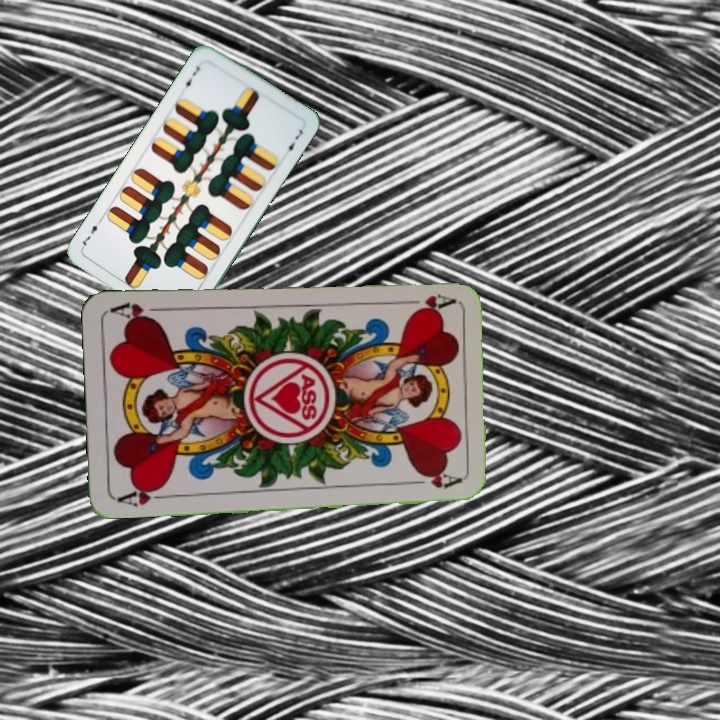E7: (179, 62, 203, 92)
HA: (113, 481, 172, 509), (396, 290, 455, 312)
